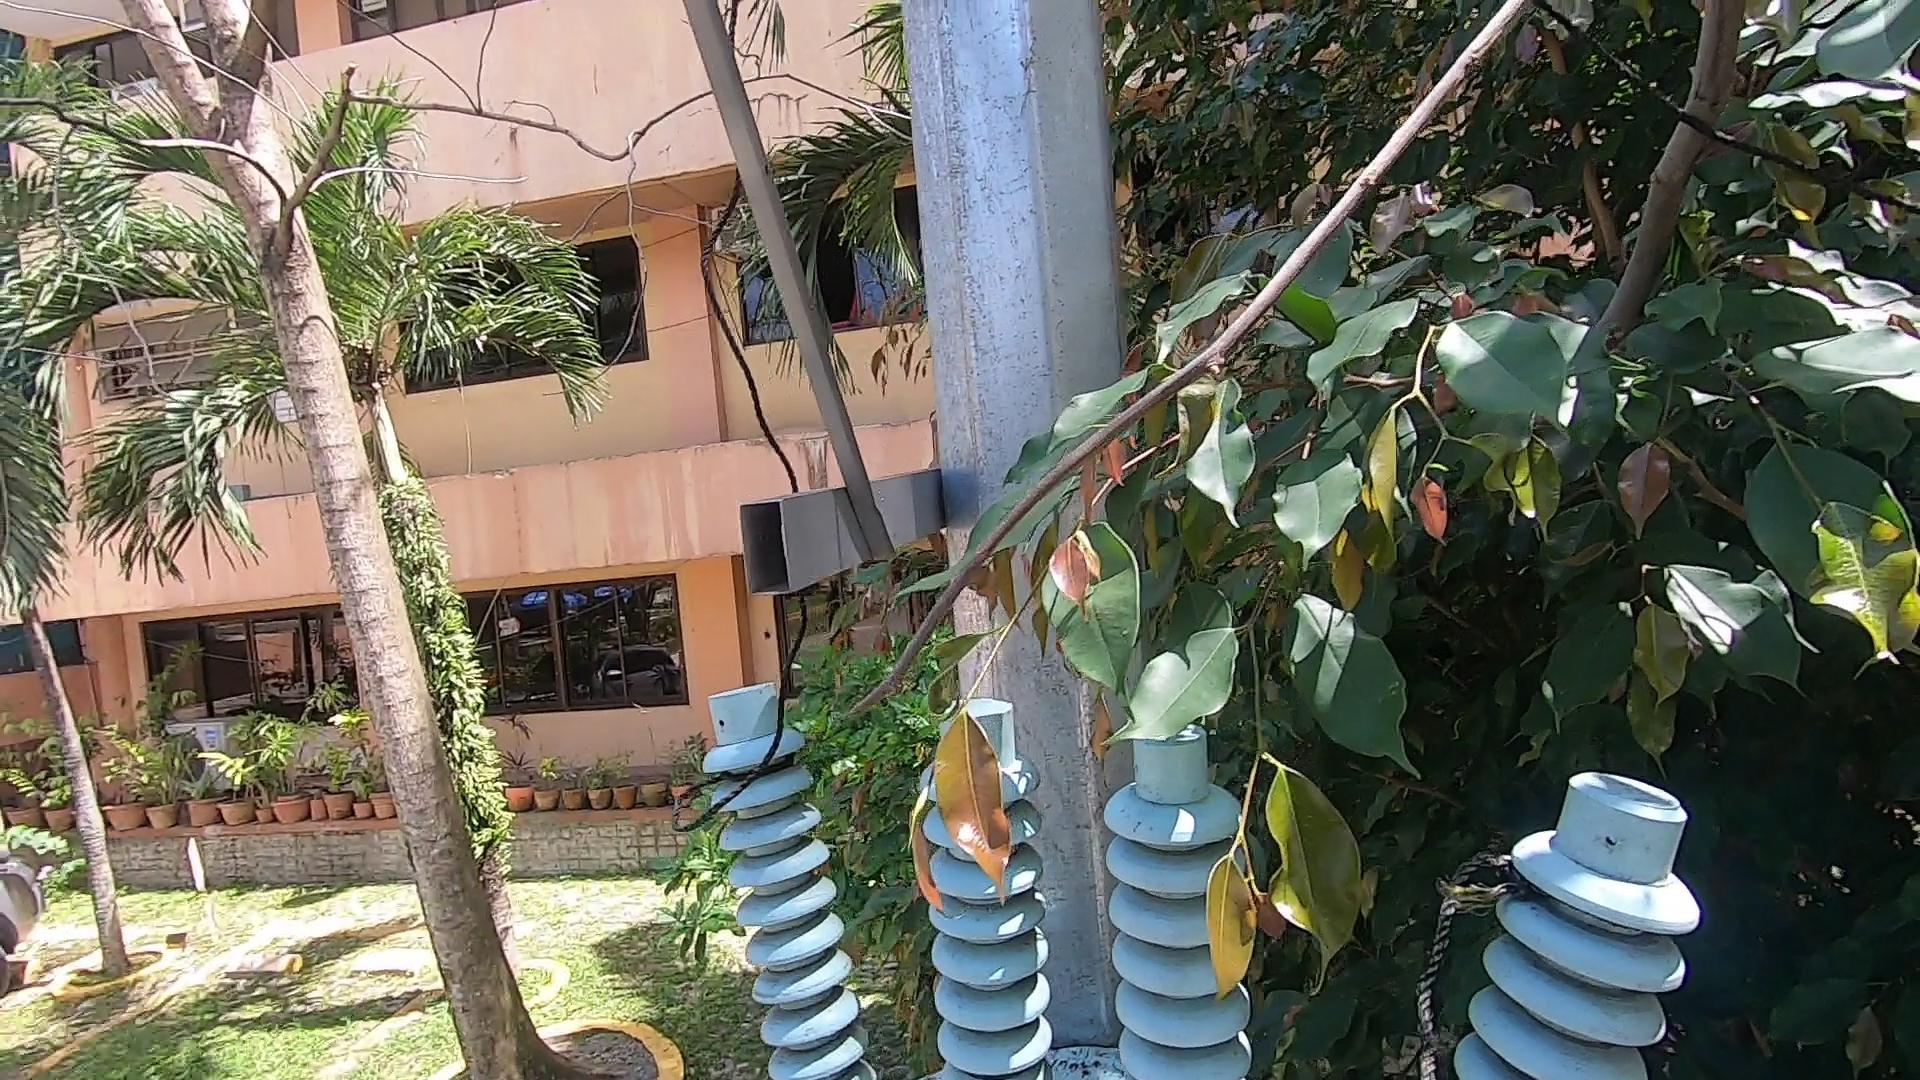tree branch: (847, 1, 1782, 762)
